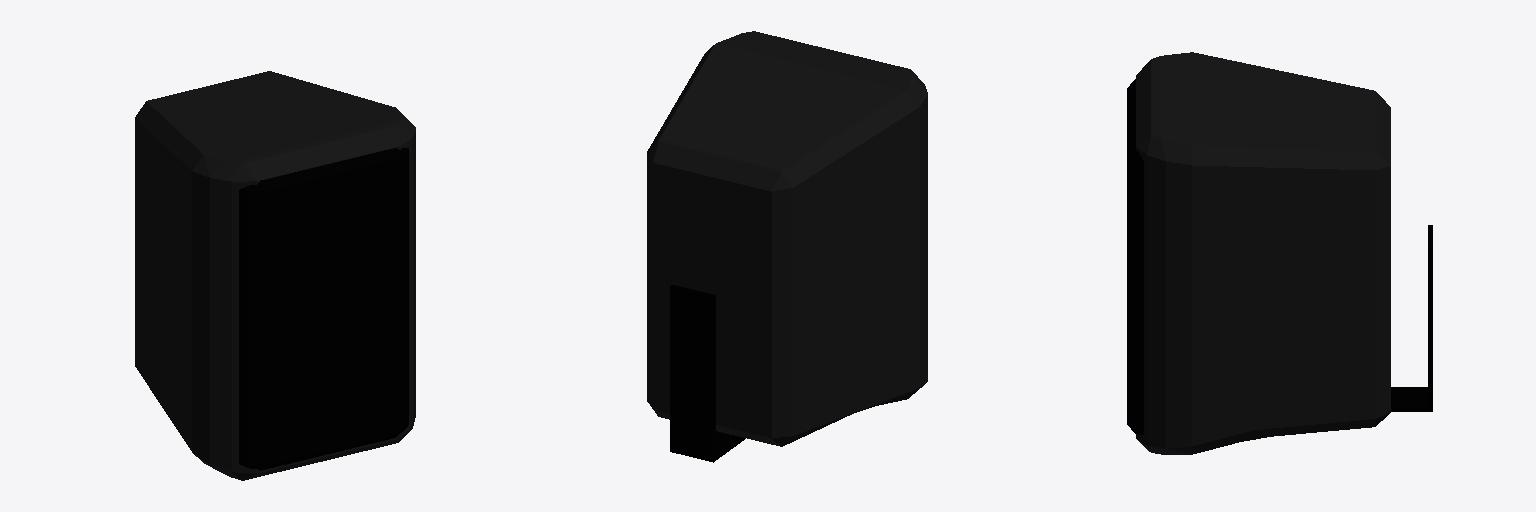
File: luidspreker.obj
The picture shows the model from 3 angles: view 1: azimuth 30°, elevation 25°; view 2: azimuth 150°, elevation 25°; view 3: azimuth 270°, elevation 25°; orthographic projection.
Visible parts, largest first — view 1: Cube, Cube.001_Cube.002; view 2: Cube, Cube.002_Cube.003; view 3: Cube, Cube.001_Cube.002, Cube.002_Cube.003.
Boxes of the visible parts, box(x1,y1,x2,y2) form: Cube: box(135, 71, 415, 480); Cube.001_Cube.002: box(239, 148, 408, 470); Cube: box(647, 31, 927, 446); Cube.002_Cube.003: box(670, 285, 745, 462); Cube: box(1136, 52, 1390, 454); Cube.001_Cube.002: box(1127, 79, 1143, 434); Cube.002_Cube.003: box(1391, 225, 1432, 411).
Size of the model in its own units: 0.6382 by 0.8981 by 0.7833.